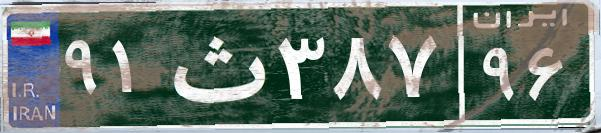1: (110, 28, 158, 105)
3: (273, 28, 330, 110)
6: (525, 38, 570, 115)
7: (385, 28, 445, 110)
8: (330, 28, 385, 110)
9: (57, 26, 110, 107), (475, 38, 525, 113)
ث: (158, 15, 273, 115)
